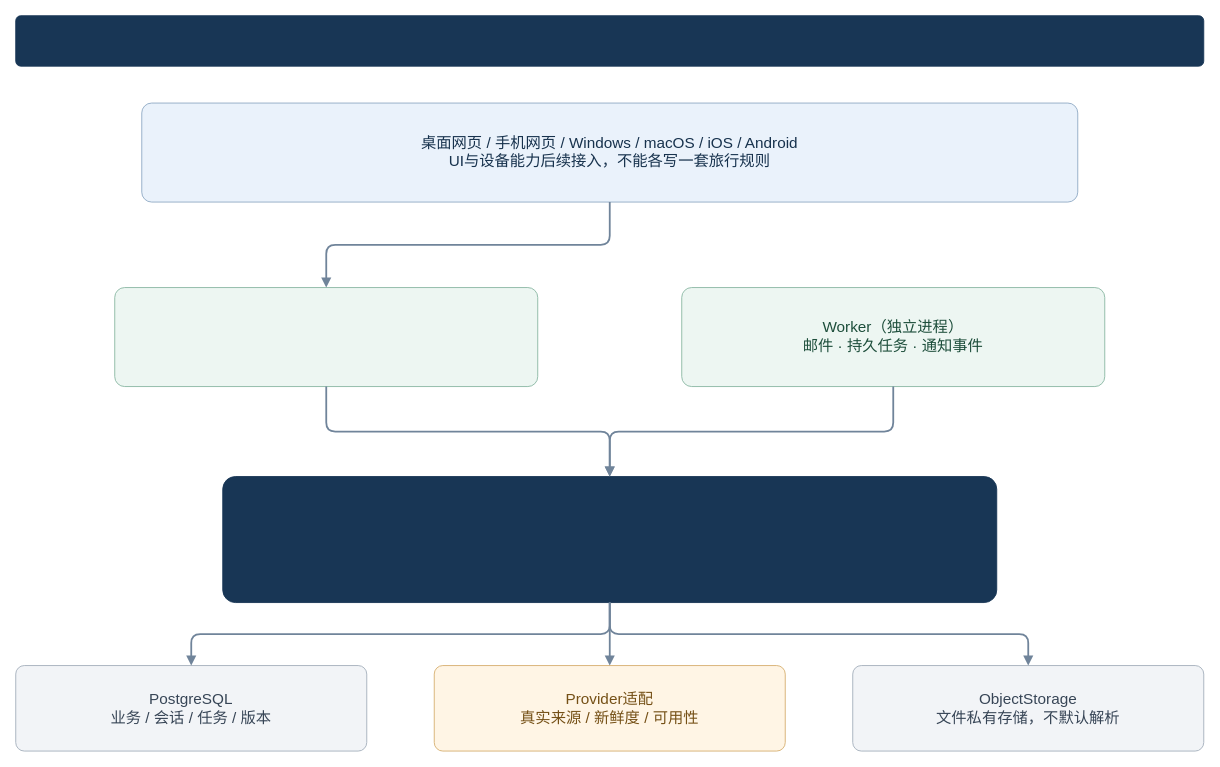
This 1220x767 diagram has some shape labels left out. The centre of each missing label's shape, as x and y in pixels:
"02｜多终端共用领域核心" belongs at point (609, 40).
"Domain / Application 时间与约束 · 冲突 · 解释 · 版本 · Preview / Adopt Domain不依赖UI、网络或ORM" belongs at point (609, 539).
"Web / API 身份验证 · 授权 · 契约 · 用例" belongs at point (326, 337).
